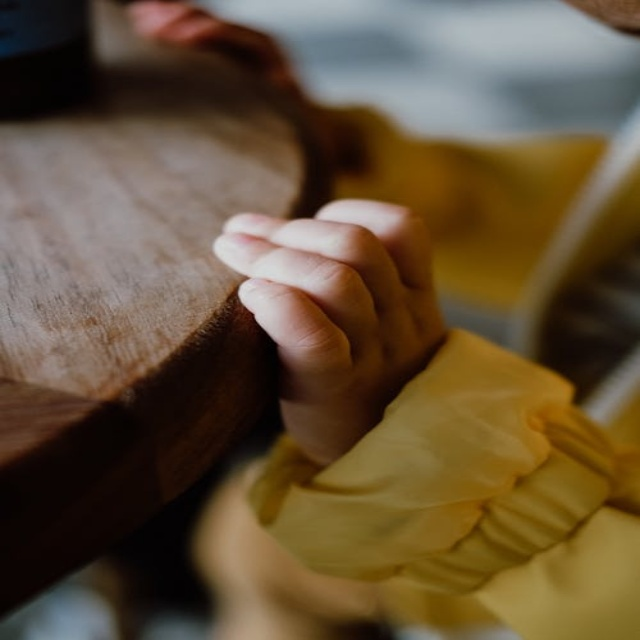Sin_guantes: (214, 194, 445, 423)
